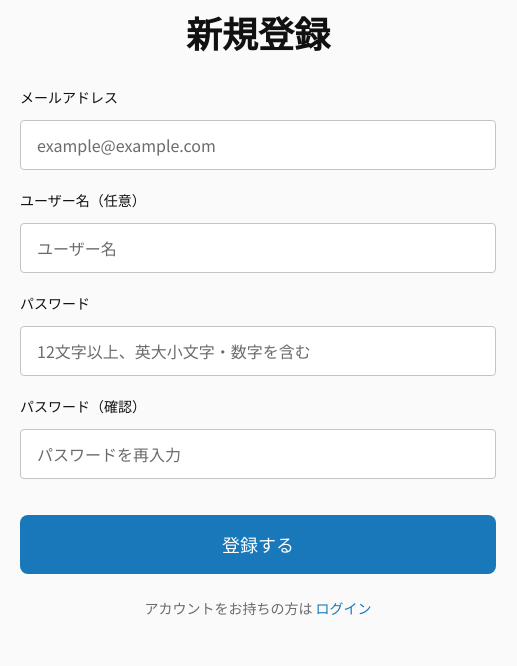
RegisterForm › パスワードに大文字がないとバリデーションエラーが表示される
Type "test@example.com" into the field labelled "メールアドレス" at (258, 145), box x1=20 y1=120 x2=496 y2=170
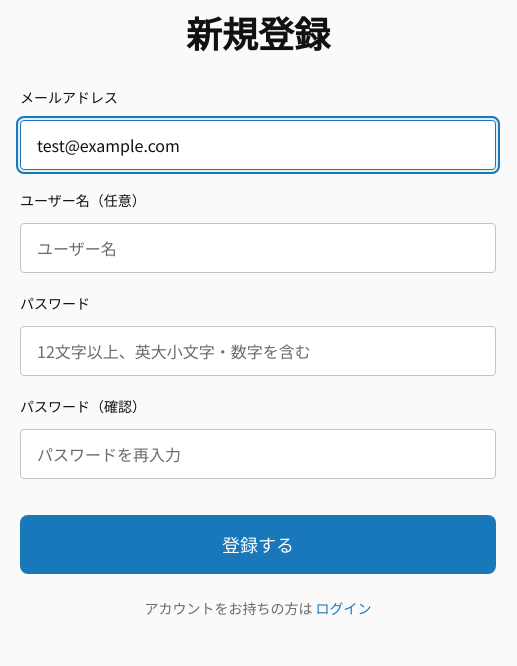
Type "password1234" into the password field labelled "パスワード" at (258, 351), box x1=20 y1=326 x2=496 y2=376
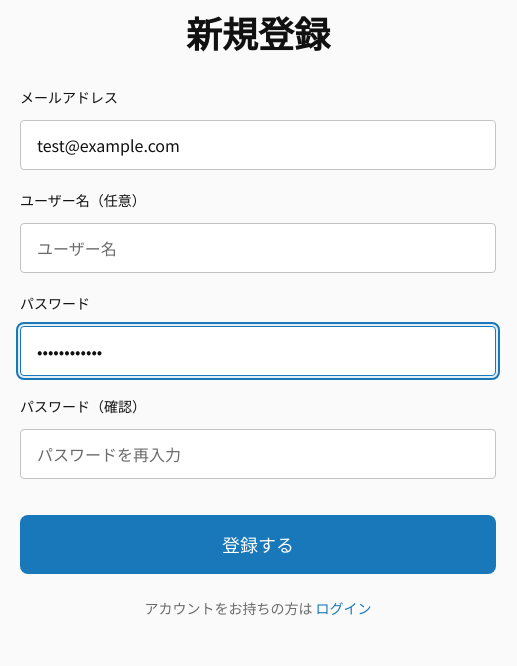
Type "password1234" into the password field labelled "パスワード（確認）" at (258, 454), box x1=20 y1=429 x2=496 y2=479
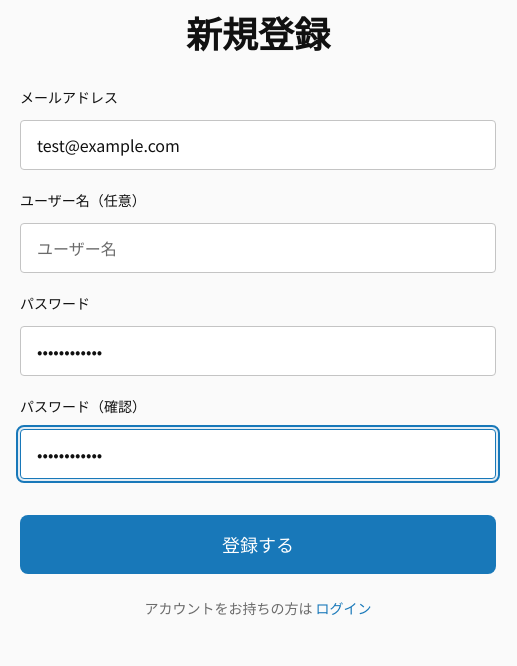
Click the button "登録する" at (258, 544), box x1=20 y1=515 x2=496 y2=574
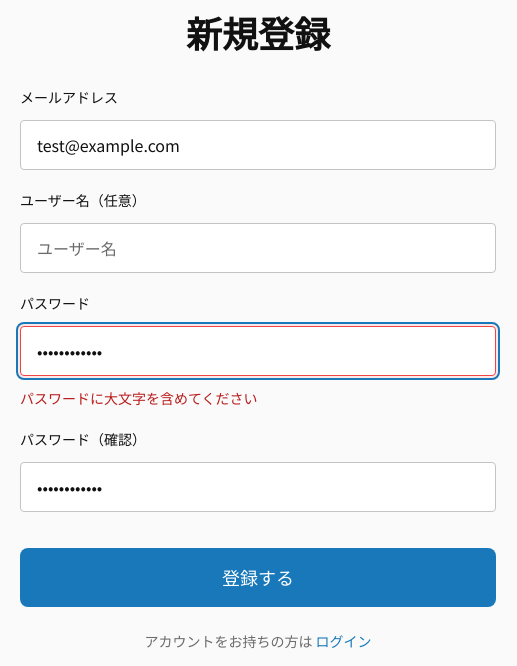
expect the text "パスワードに大文字を含めてください" is shown: met, box x1=20 y1=388 x2=258 y2=408
